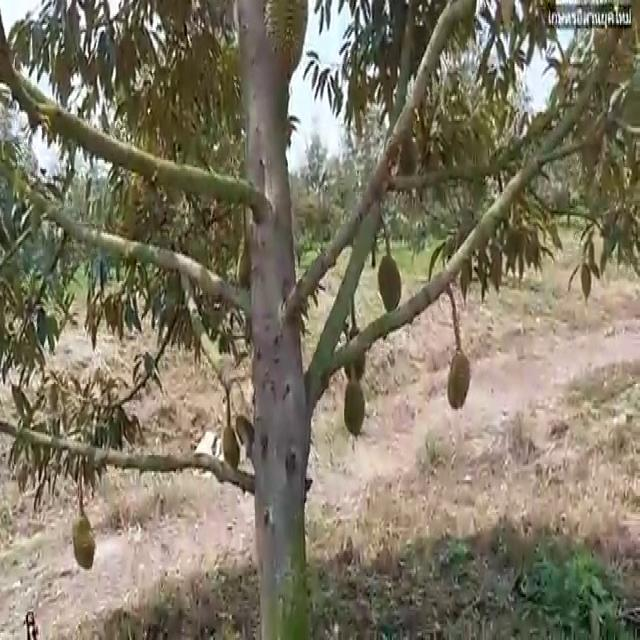durian: (376, 252, 404, 322), (446, 348, 474, 417), (70, 510, 98, 578), (341, 323, 367, 388), (341, 379, 367, 442), (220, 419, 242, 477)
